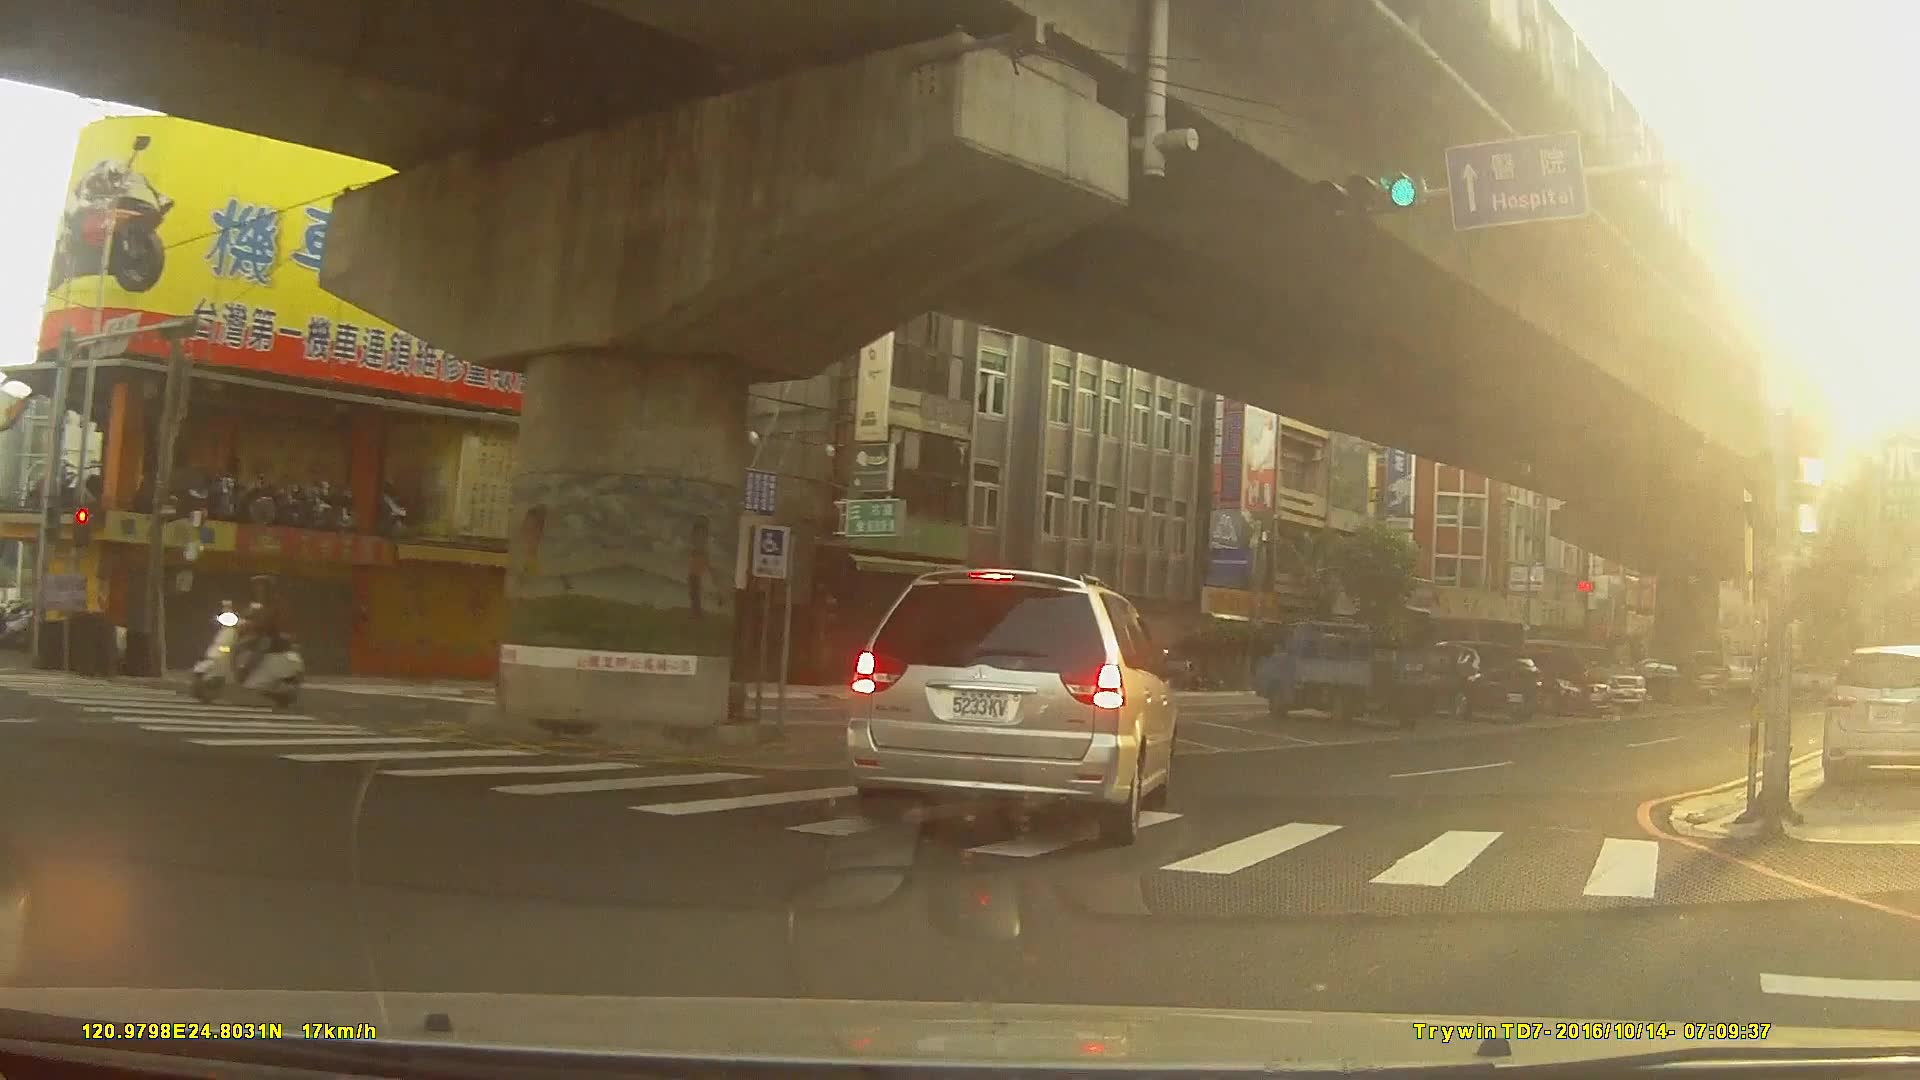rider: (194, 572, 312, 706)
vehicle: (842, 564, 1179, 846), (1249, 618, 1455, 728), (1821, 639, 1920, 783), (1408, 635, 1545, 718), (1490, 648, 1615, 717), (1612, 657, 1695, 701)
